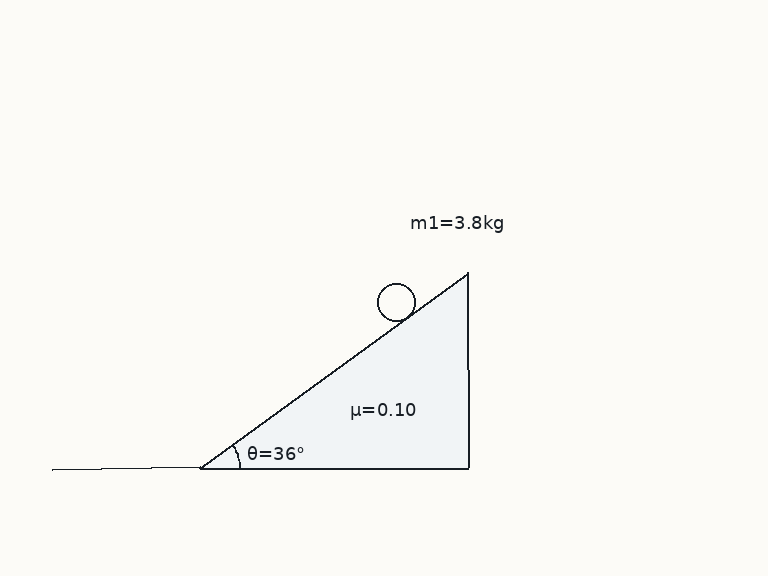ball: (375, 281, 417, 323)
ramp: (198, 271, 470, 470)
